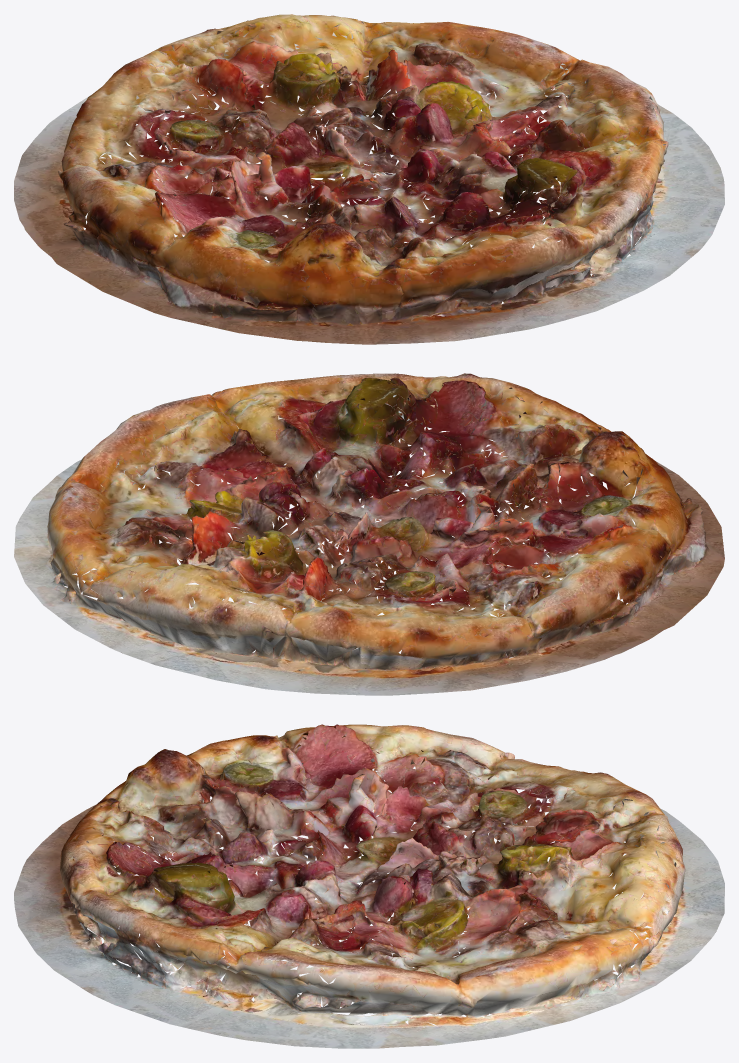
The model's file is pizza.glb.
3 renders of one model, top to bottom at view 1: azimuth 30°, elevation 25°; view 2: azimuth 150°, elevation 25°; view 3: azimuth 270°, elevation 25°, orthographic.
Parts seen in each view (by area): view 1: decMesh; view 2: decMesh; view 3: decMesh.
Boxes of the visible parts, x1=… form: decMesh: x1=14, y1=14, x2=724, y2=344; decMesh: x1=14, y1=373, x2=724, y2=695; decMesh: x1=14, y1=724, x2=724, y2=1048.
Size of the model in its own units: 0.698 by 0.0843 by 0.6962.
1 material, 1 textured.
